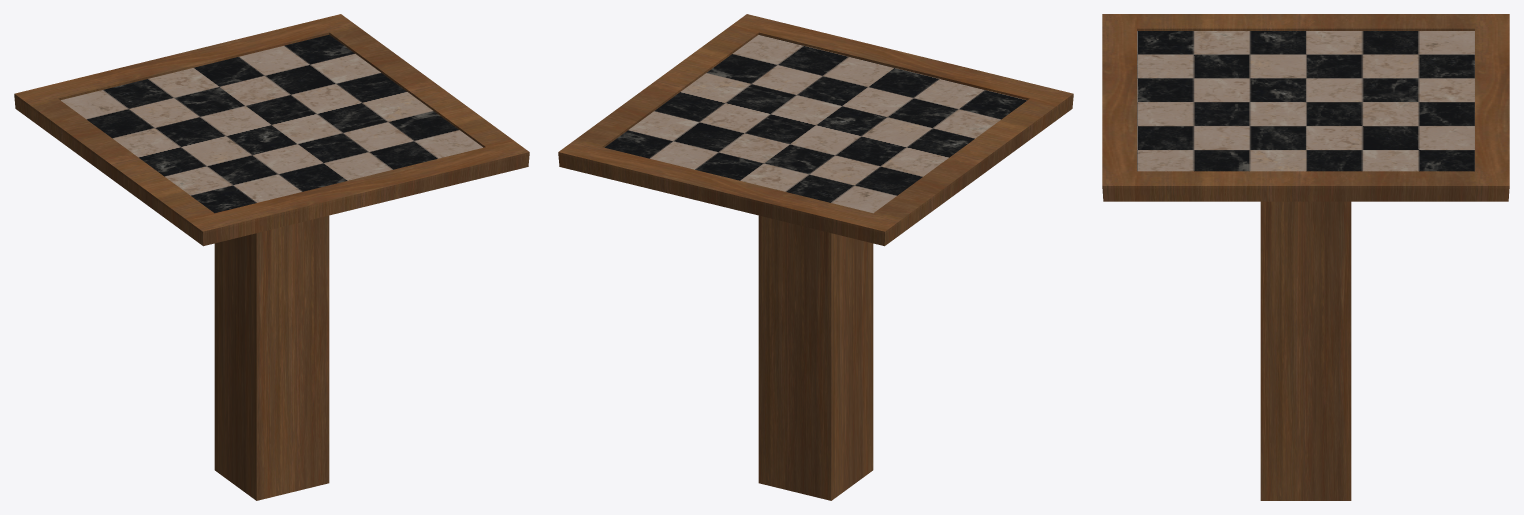
File: mesinhadexadrez.fbx
3 renders of one model, left to right at view 1: azimuth 30°, elevation 25°; view 2: azimuth 150°, elevation 25°; view 3: azimuth 270°, elevation 25°, orthographic. The views are drawn at different scales.
Visible parts, largest first — view 1: mesinha.001; view 2: mesinha.001; view 3: mesinha.001.
Part boxes in pixels (x1,y1,x2,y2): mesinha.001: (14, 14, 529, 500); mesinha.001: (558, 14, 1073, 500); mesinha.001: (1102, 14, 1509, 500).
Bounding box in the file's own units: 59.11 × 61.17 × 59.11.
